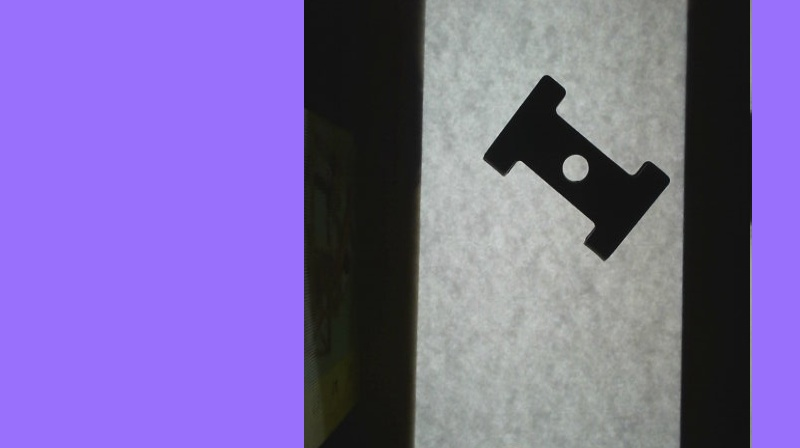O001: (470, 443, 610, 447)
O002: (479, 73, 671, 266)
